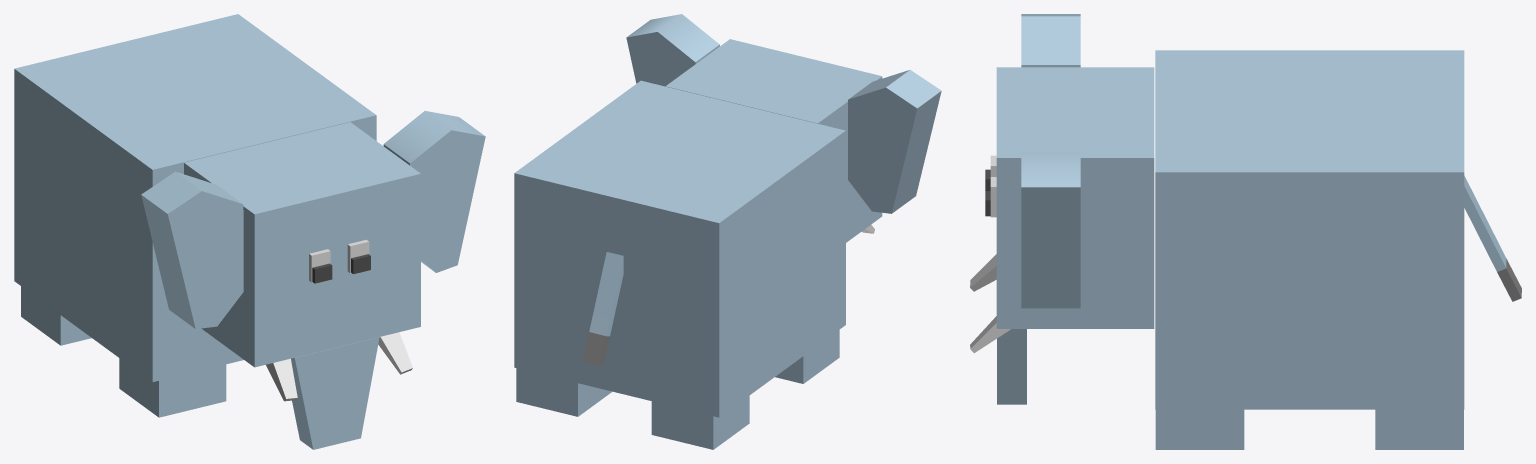
Rendered from Elephant1_Final.fbx.
The picture shows the model from 3 angles, left to right: view 1: azimuth 30°, elevation 25°; view 2: azimuth 150°, elevation 25°; view 3: azimuth 270°, elevation 25°; orthographic projection. The views are drawn at different scales.
Visible parts, largest first — view 1: pCube1, Head, R_Ear, L_Ear, ht, pCube3, pCube4, R_Horn, L_Horn; view 2: pCube1, Head, R_Ear, L_Ear, pCube4, pCube29, Tail, pCube3; view 3: pCube1, Head, L_Ear, pCube2, pCube29, R_Ear, ht, Tail, L_Horn.
Part boxes in pixels (bbox=[...]): pCube1: bbox=[14, 14, 376, 382]; Head: bbox=[184, 122, 420, 367]; R_Ear: bbox=[141, 171, 243, 328]; L_Ear: bbox=[383, 111, 485, 272]; ht: bbox=[291, 337, 379, 449]; pCube3: bbox=[119, 358, 226, 417]; pCube4: bbox=[21, 286, 91, 345]; R_Horn: bbox=[266, 358, 297, 401]; L_Horn: bbox=[378, 332, 412, 374]; pCube1: bbox=[514, 80, 845, 417]; Head: bbox=[665, 39, 882, 242]; R_Ear: bbox=[848, 69, 941, 213]; L_Ear: bbox=[626, 14, 719, 86]; pCube4: bbox=[651, 396, 749, 449]; pCube29: bbox=[516, 368, 611, 416]; Tail: bbox=[582, 252, 623, 365]; pCube3: bbox=[775, 330, 839, 383]; pCube1: bbox=[1155, 50, 1464, 409]; Head: bbox=[996, 67, 1154, 328]; L_Ear: bbox=[1021, 152, 1080, 308]; pCube2: bbox=[1155, 409, 1244, 449]; pCube29: bbox=[1375, 409, 1463, 449]; R_Ear: bbox=[1021, 14, 1080, 67]; ht: bbox=[997, 329, 1026, 404]; Tail: bbox=[1464, 176, 1521, 301]; L_Horn: bbox=[970, 316, 1010, 353].
Bounding box in the file's own units: 21.34 × 17.66 × 28.71.
